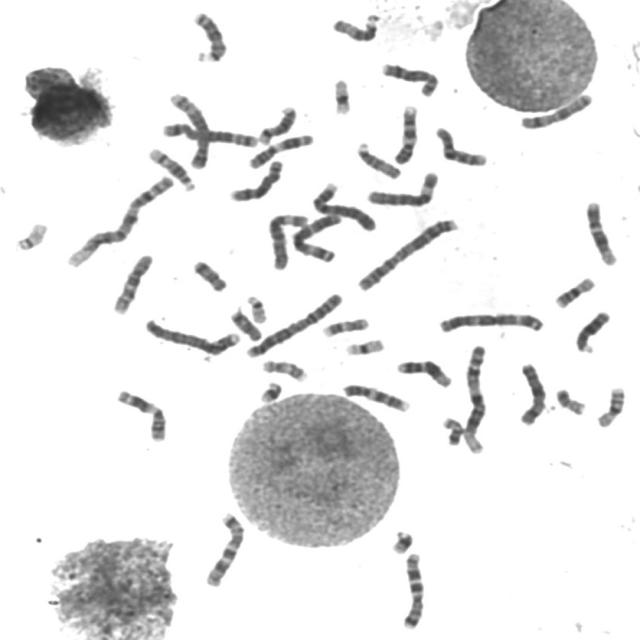A1: (62, 172, 175, 270), (458, 341, 490, 456)
A2: (352, 214, 461, 294), (243, 289, 345, 360)
A3: (434, 308, 547, 336), (288, 209, 343, 264)
B4: (140, 314, 242, 356), (309, 178, 378, 233)
B5: (163, 88, 212, 171), (158, 119, 260, 149)
C10: (108, 250, 155, 316), (431, 122, 489, 168)
C11: (112, 386, 168, 444), (243, 130, 316, 170)
C12: (581, 197, 619, 267), (393, 356, 454, 390)
C6: (363, 168, 441, 208), (264, 210, 310, 271)
C7: (200, 509, 246, 588), (398, 548, 427, 631)
C8: (225, 156, 285, 203), (377, 59, 440, 98)
C9: (337, 379, 412, 414), (390, 101, 420, 166)
D13: (188, 7, 228, 64), (572, 307, 612, 355)
D14: (144, 144, 197, 192), (254, 102, 299, 147)
D15: (353, 138, 403, 181), (328, 10, 382, 44)
E16: (550, 273, 598, 310), (593, 383, 627, 429)
E17: (258, 356, 309, 384), (318, 314, 372, 338)
E18: (188, 256, 229, 293), (226, 306, 265, 342)
F19: (328, 75, 354, 116), (342, 335, 386, 357)
F20: (551, 384, 588, 417), (438, 412, 465, 447)
G21: (386, 526, 416, 556), (255, 378, 284, 404)
G22: (11, 218, 49, 252), (242, 291, 268, 324)
X: (516, 89, 595, 131), (515, 359, 548, 427)
